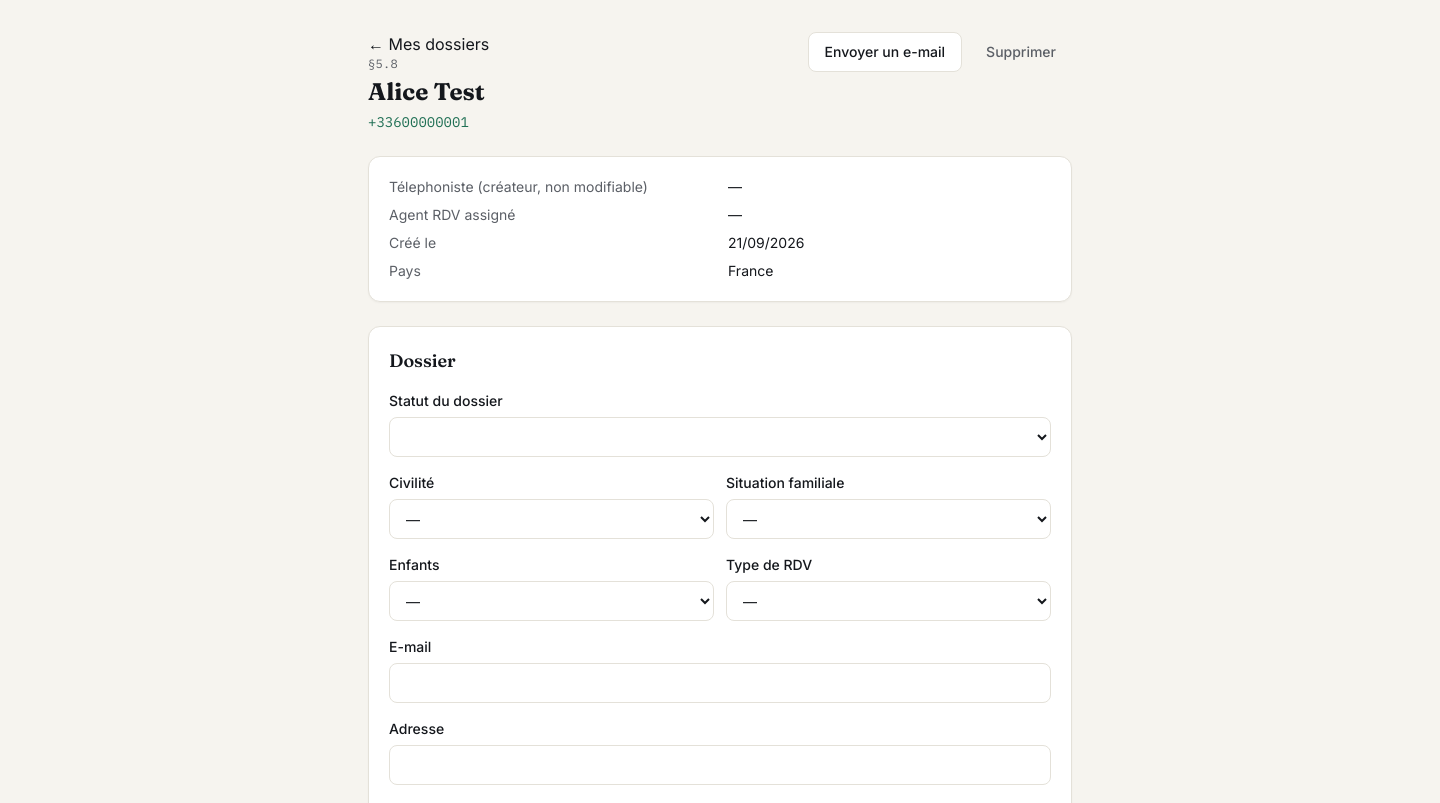
Scenario: fiche dossier — suppression › autre échec (403) : message générique, pas de redirection
Click the button "Supprimer": [1021, 52] box [970,32,1072,72]
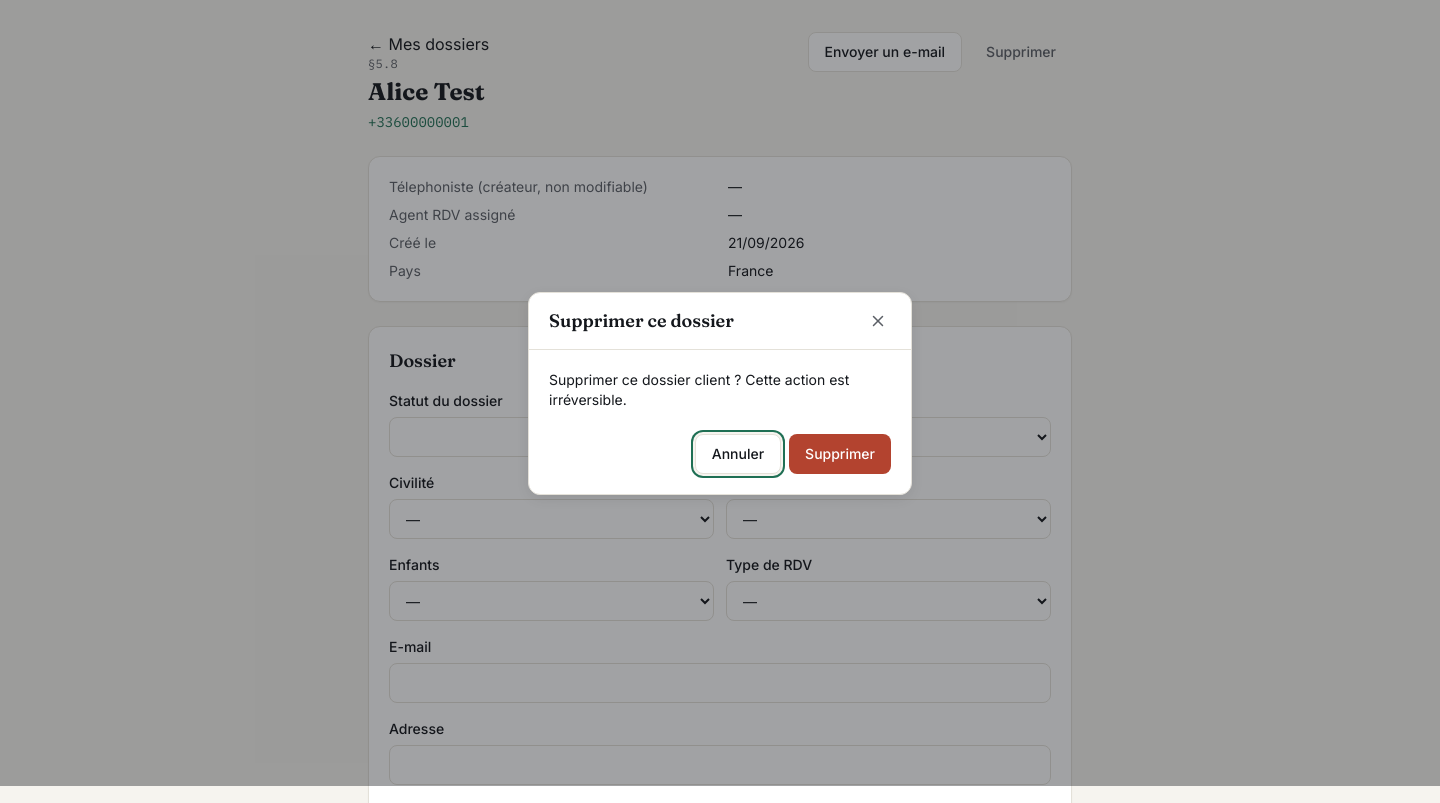
Click the button "Supprimer": [840, 454] box [789,434,891,474]
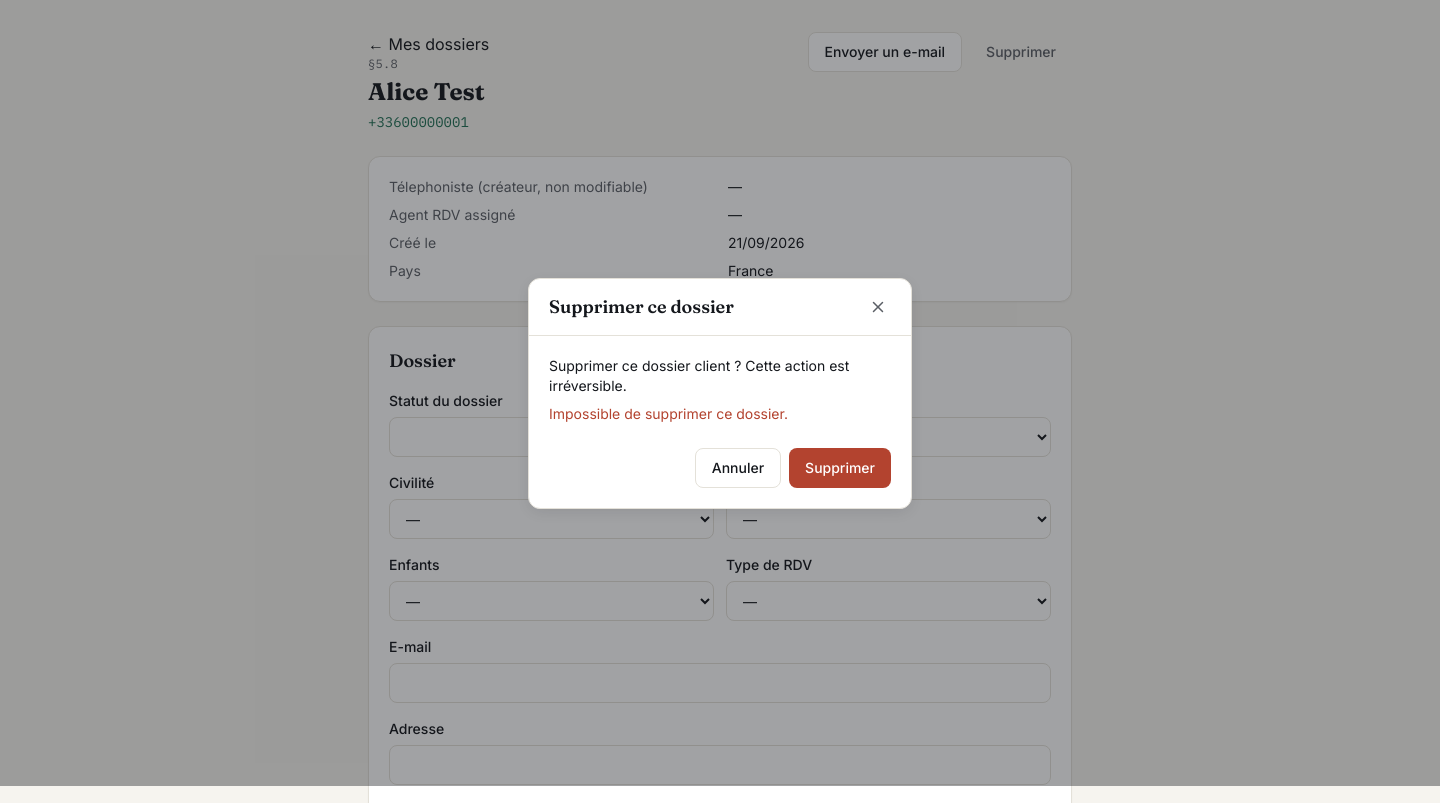
Result: the text "Impossible de supprimer ce dossier." is shown at [549,404,788,422]
